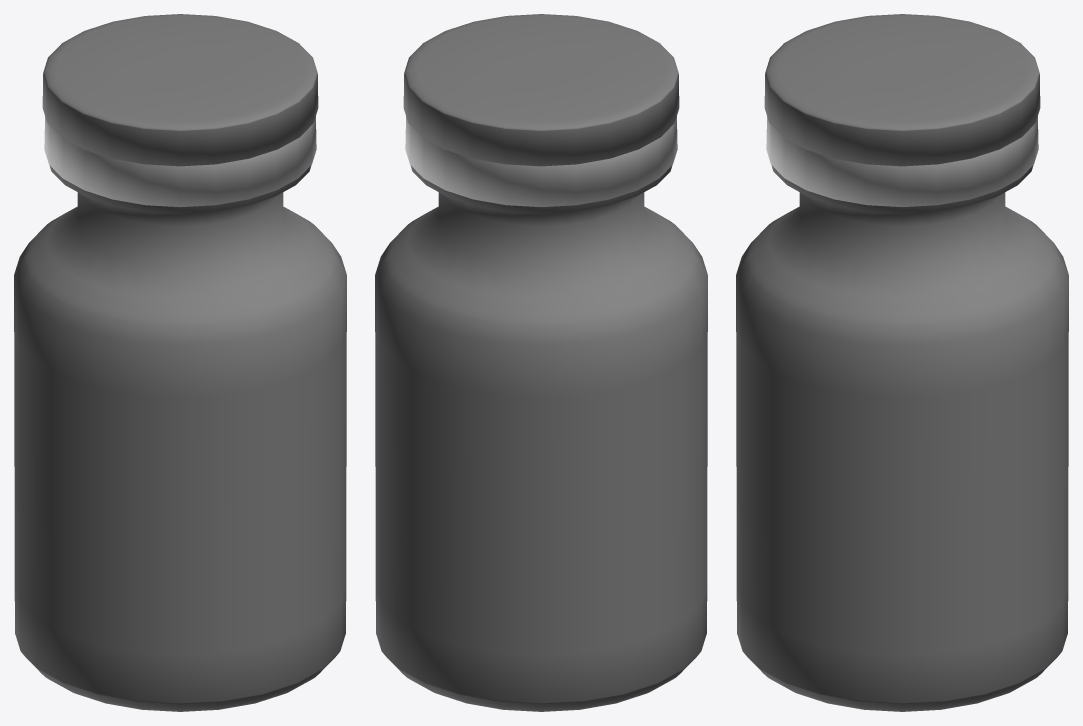
The model's file is MedicineBottle.fbx.
3 renders of one model, left to right at view 1: azimuth 30°, elevation 25°; view 2: azimuth 150°, elevation 25°; view 3: azimuth 270°, elevation 25°, orthographic.
Parts seen in each view (by area): view 1: Bottle, plastic_cap, Cap; view 2: Bottle, plastic_cap, Cap; view 3: Bottle, plastic_cap, Cap.
Part boxes in pixels (x1,y1,x2,y2): Bottle: (14,165,346,711); plastic_cap: (42,14,318,166); Cap: (44,116,316,207); Bottle: (375,165,707,711); plastic_cap: (403,14,679,166); Cap: (405,116,677,207); Bottle: (736,165,1068,711); plastic_cap: (764,14,1040,166); Cap: (766,116,1038,207).
Size of the model in its own units: 71.16 by 138 by 71.16.
